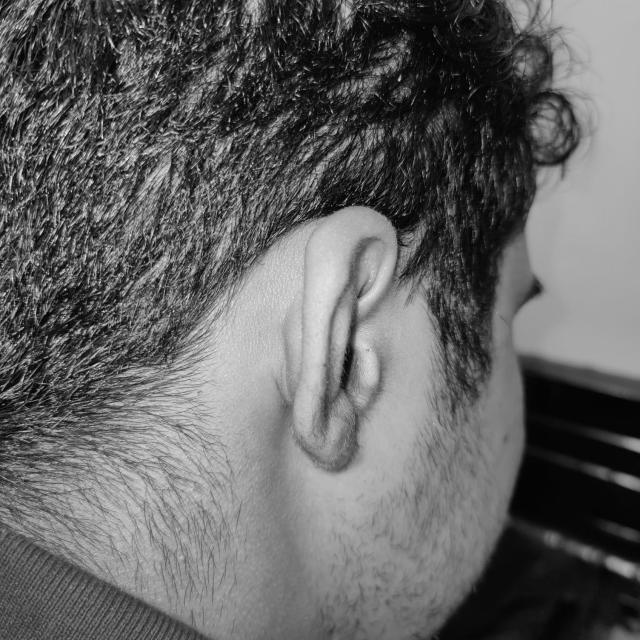ear: (289, 207, 397, 469), (295, 367, 298, 368)
